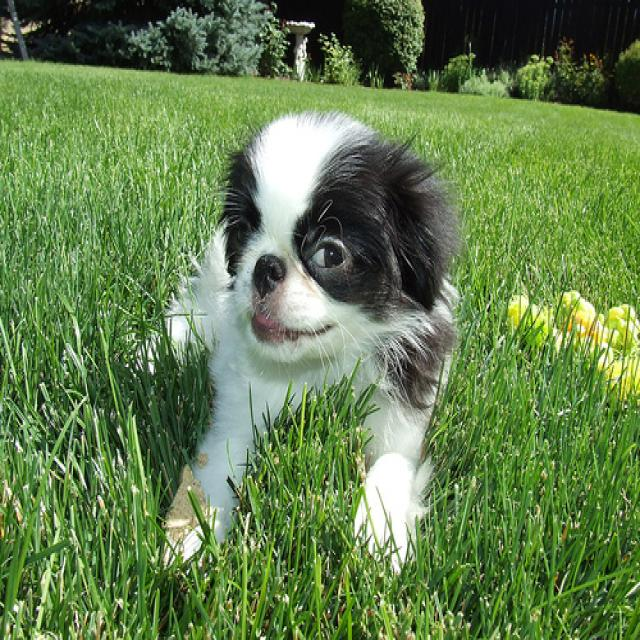dog-japanese_chin: (120, 96, 474, 580)
